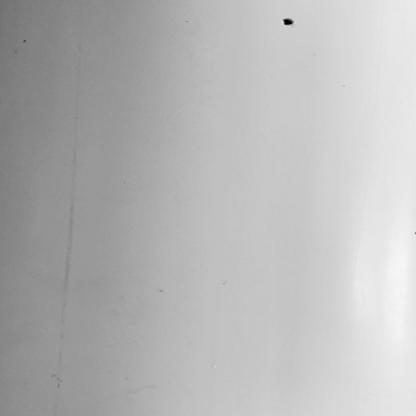kongdong: (276, 9, 306, 29)
